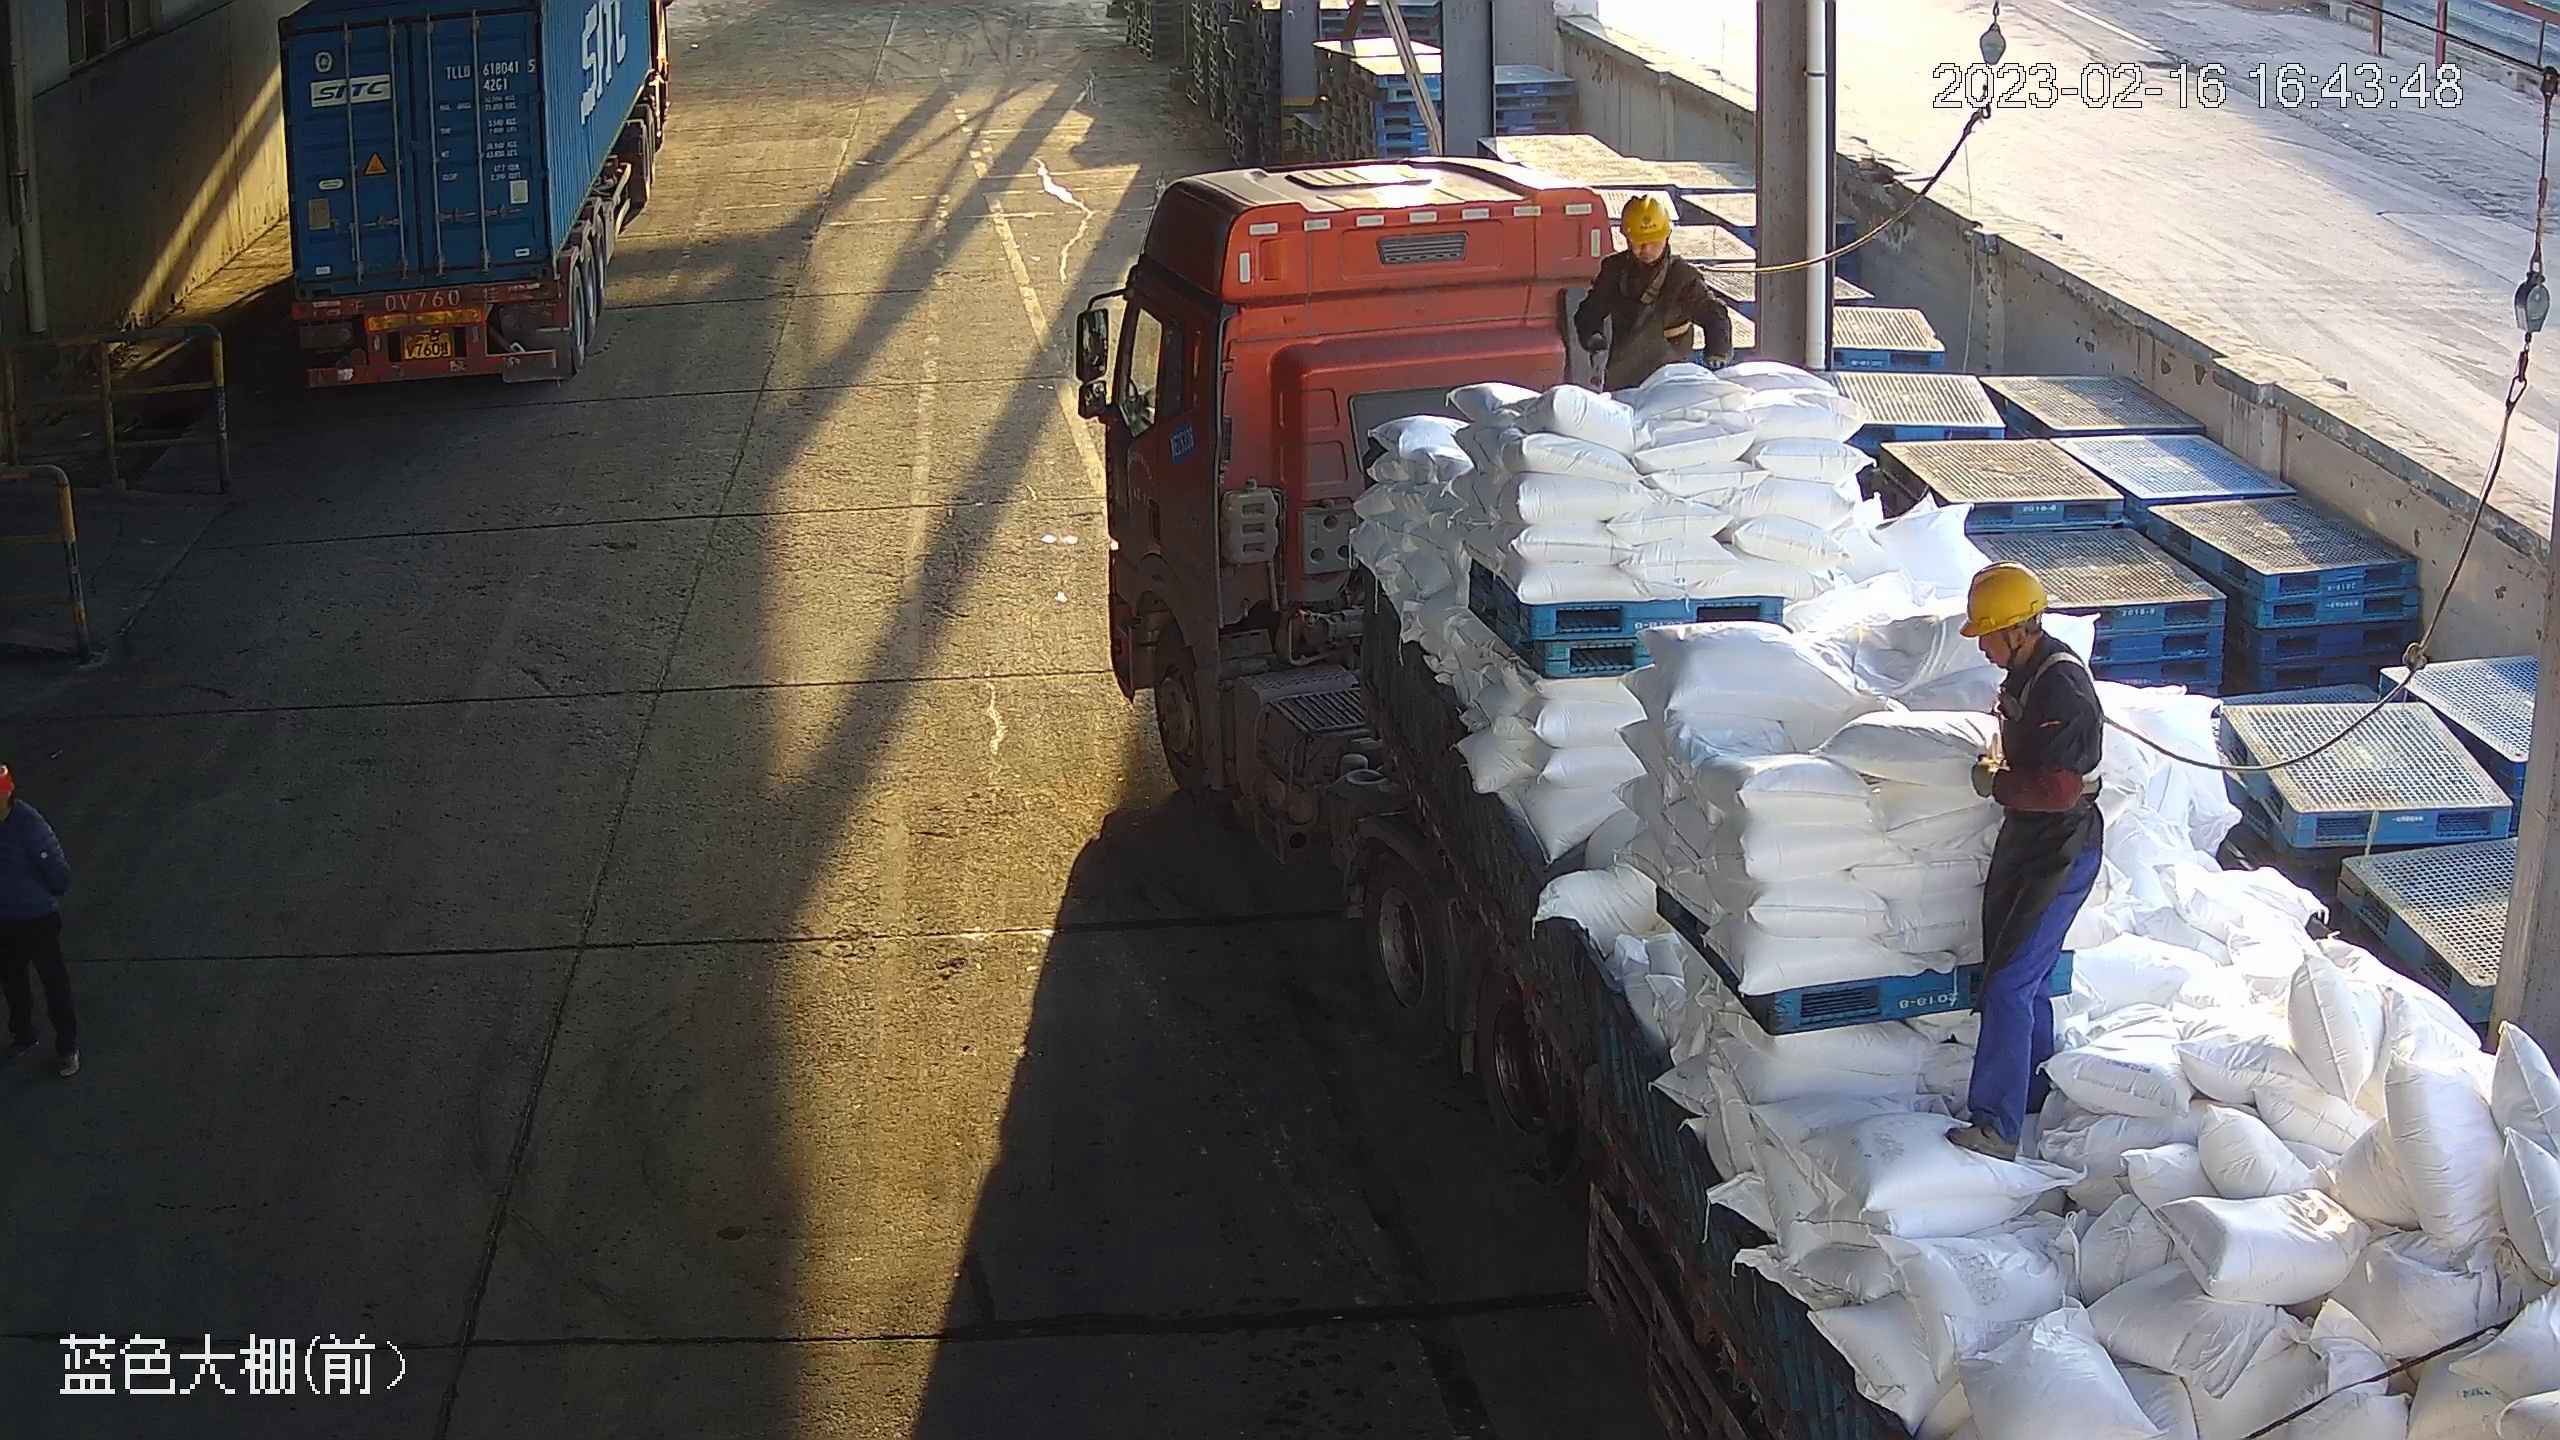belt: (1994, 652, 2113, 785), (1620, 253, 1694, 336)
head: (1957, 561, 2096, 709), (1595, 196, 1695, 290)
helmet: (1956, 561, 2049, 639), (1620, 195, 1672, 245)
people: (1943, 560, 2110, 1160), (1573, 194, 1734, 393)
truck: (1070, 154, 2560, 1440), (276, 1, 670, 392)
